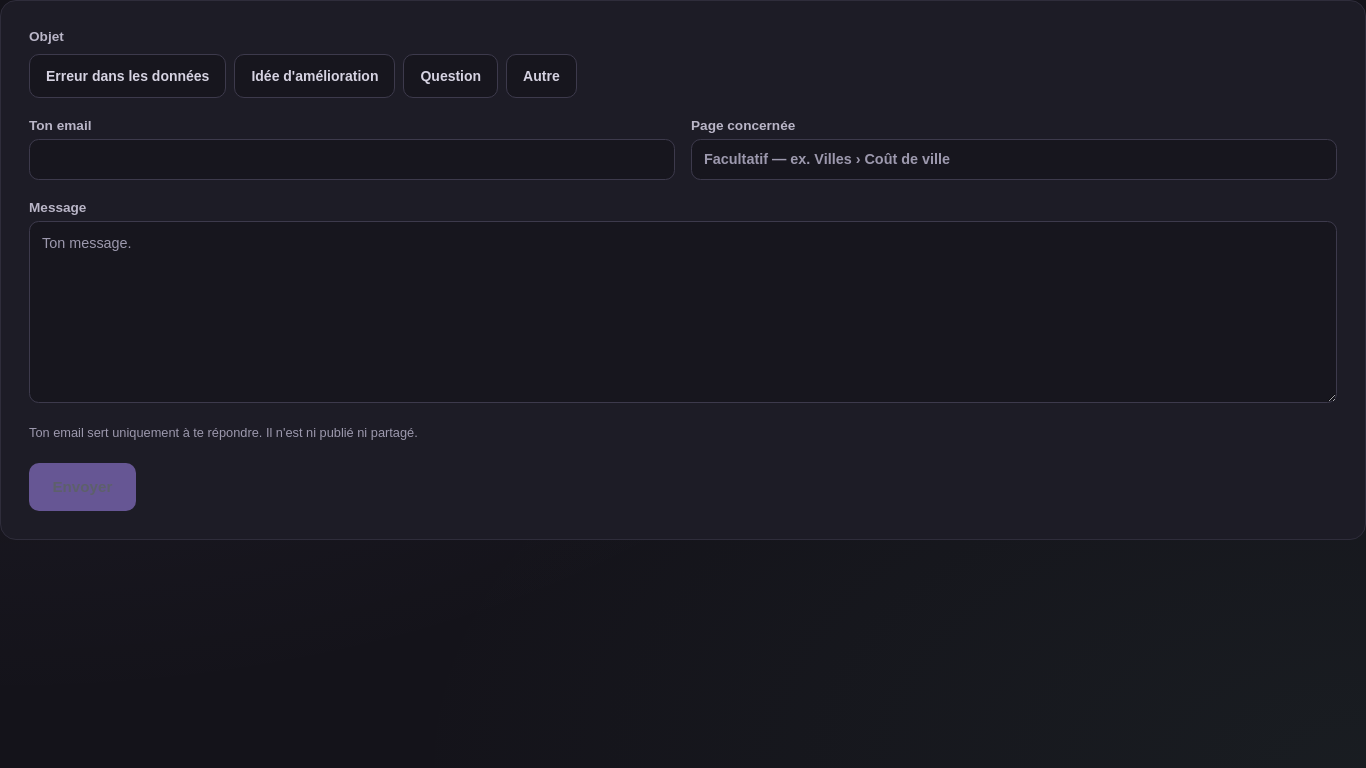
Test: ContactForm › shows a not-configured message when SMTP isn't set up
In the field labelled "Ton email": (352, 159) x1=29 y1=139 x2=675 y2=180, type "player@example.com"
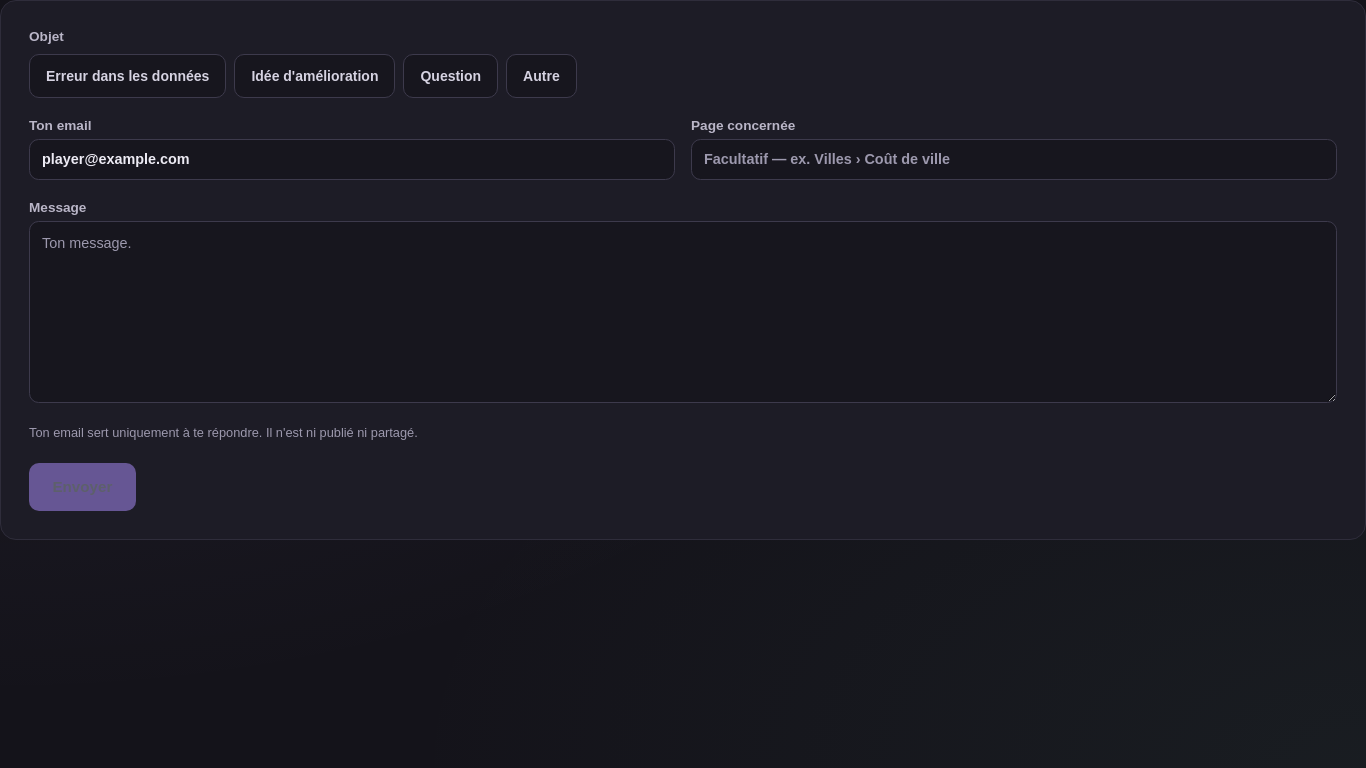
Click the button "Erreur dans les données": (128, 76) x1=29 y1=54 x2=226 y2=98
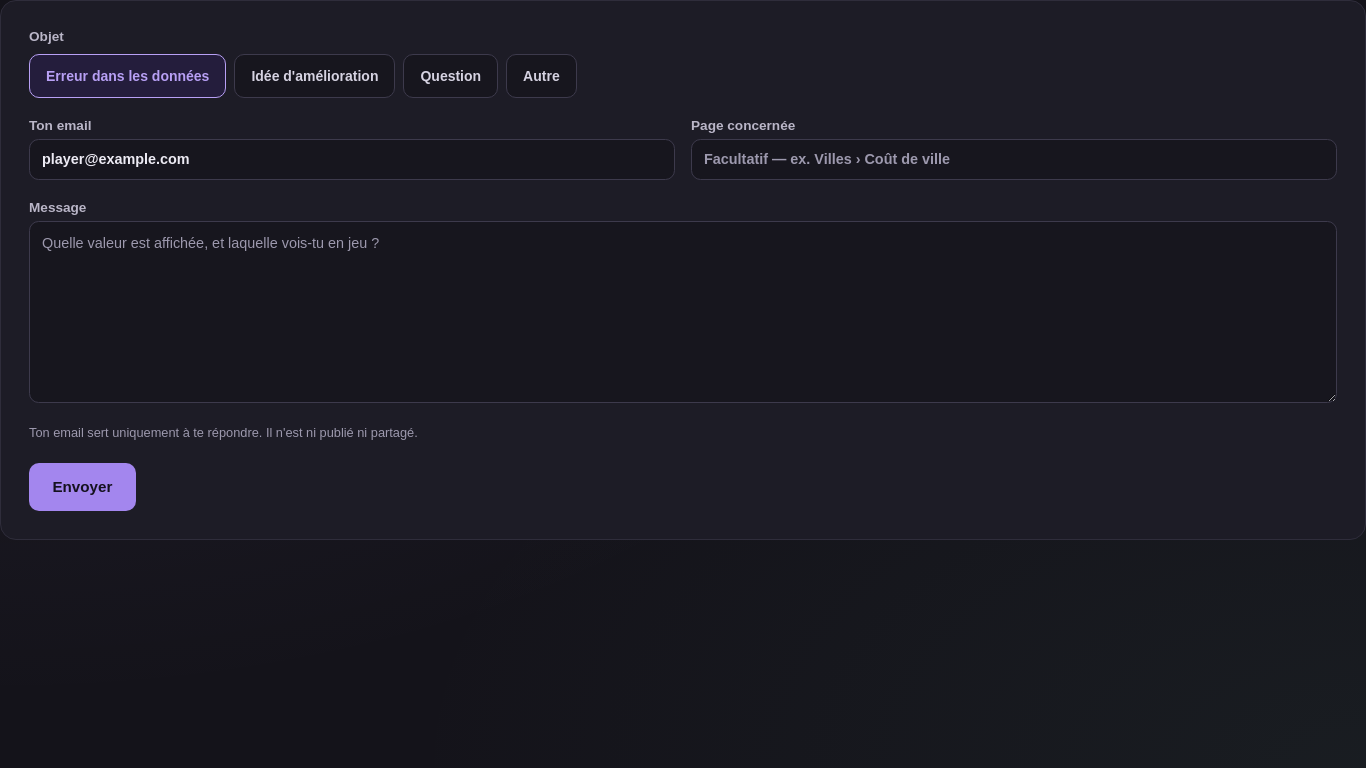
In the text box labelled "Message": (683, 312) x1=29 y1=221 x2=1337 y2=404, type "Le taux d'XP semble faux."
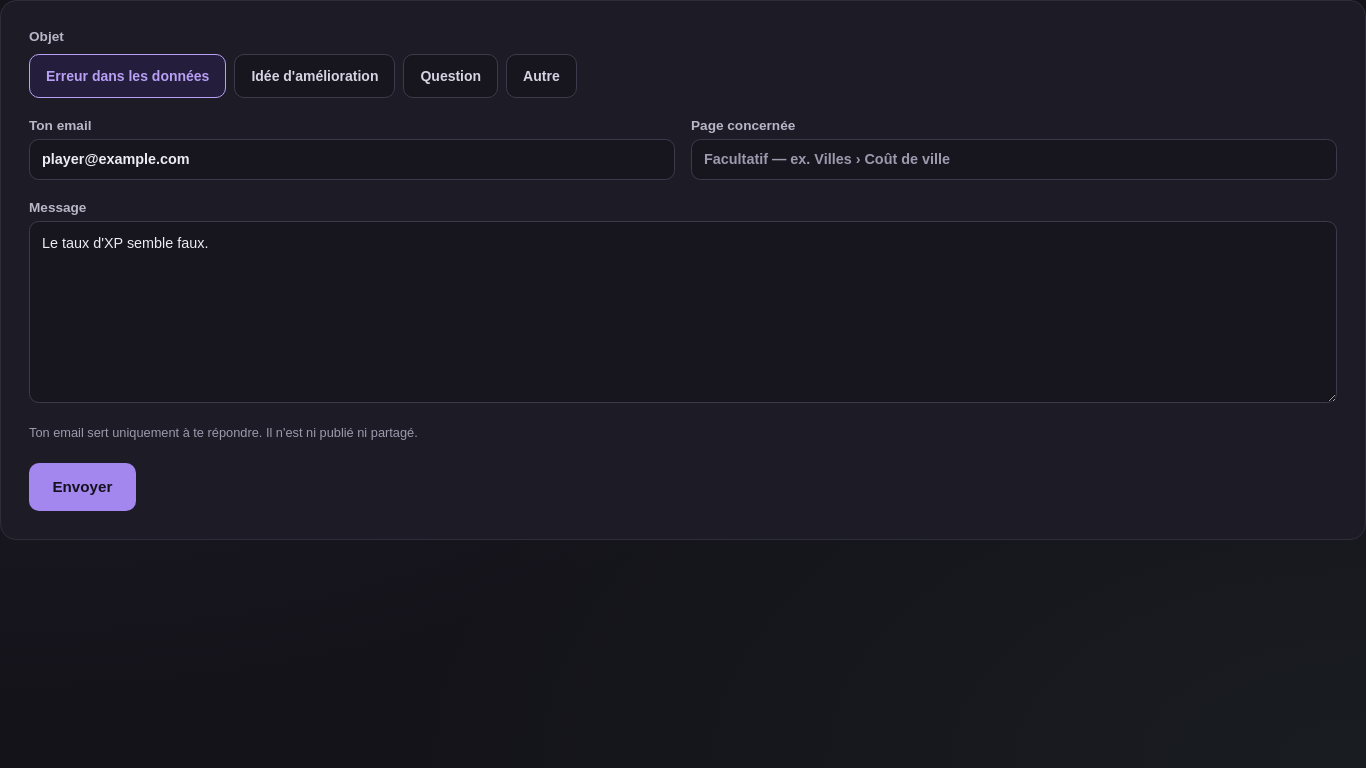
Click the button "Envoyer": (82, 487) x1=29 y1=463 x2=136 y2=511
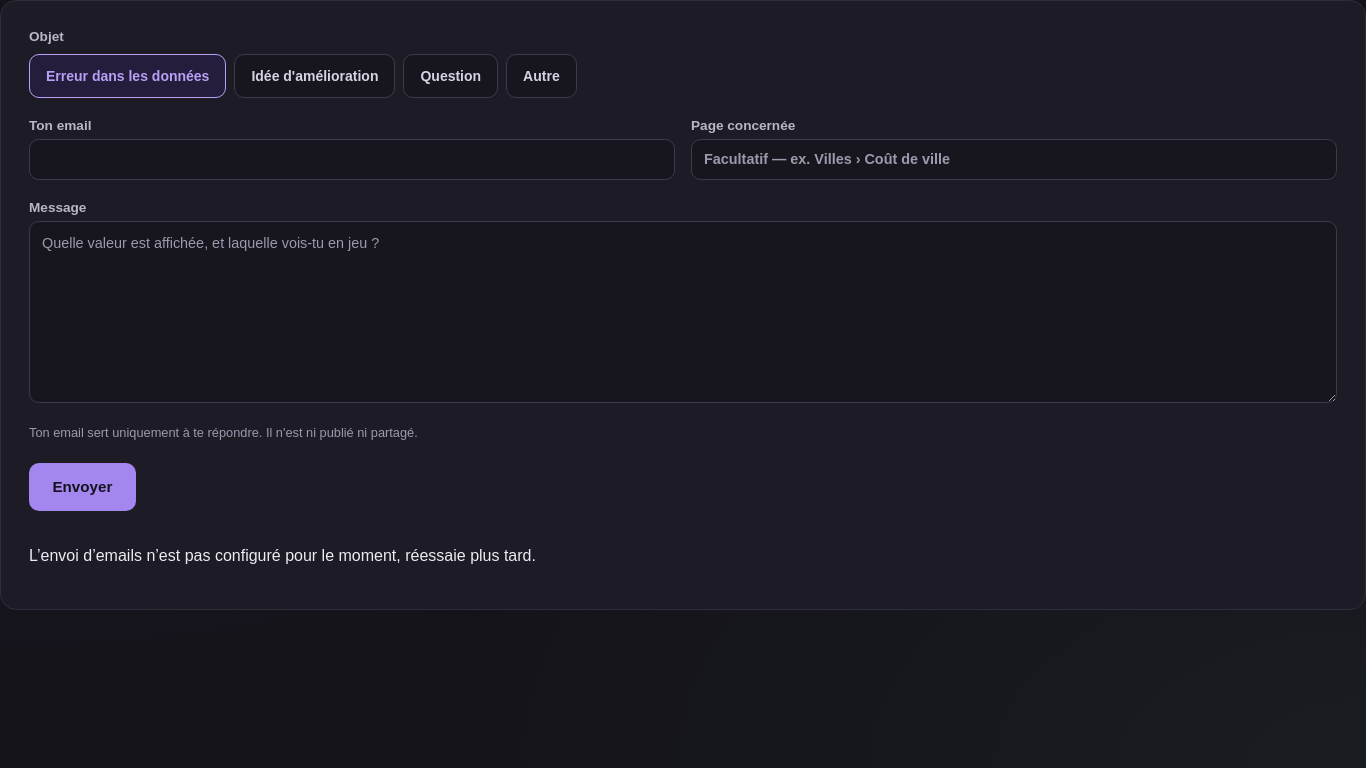
Expected: the message reads "L’envoi d’emails n’est pas configuré pour le moment, réessaie plus tard.", x1=29 y1=547 x2=536 y2=564
